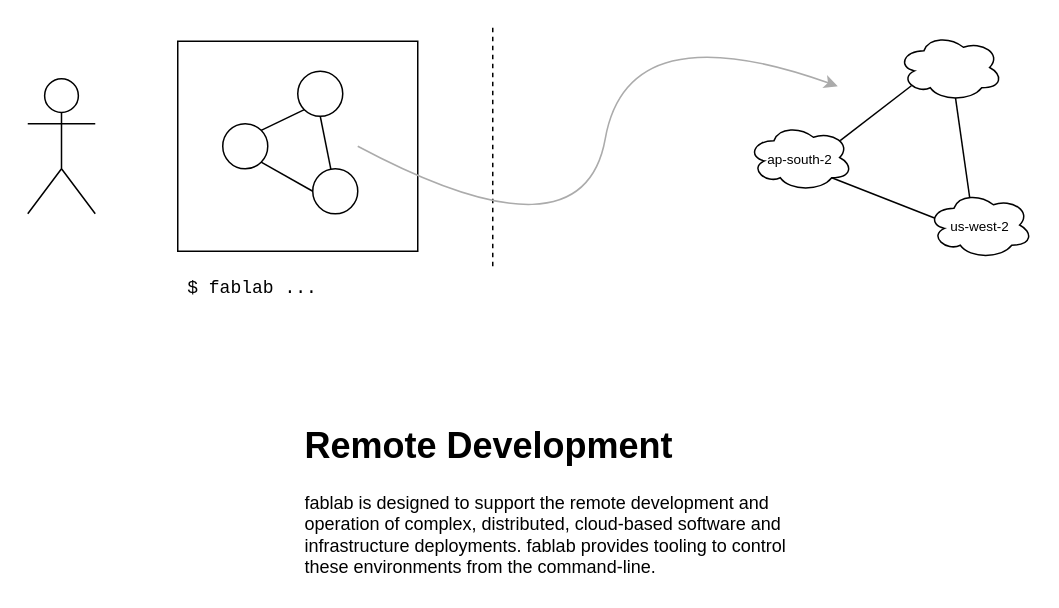
Image size: 1059x608. Some labels were removed from this diagram. The shapes that lost their labels are listed below. From the top down, each one's centre as x and y in pixels, then its label:
point (949, 66): us-east-1
point (60, 145): Operator
